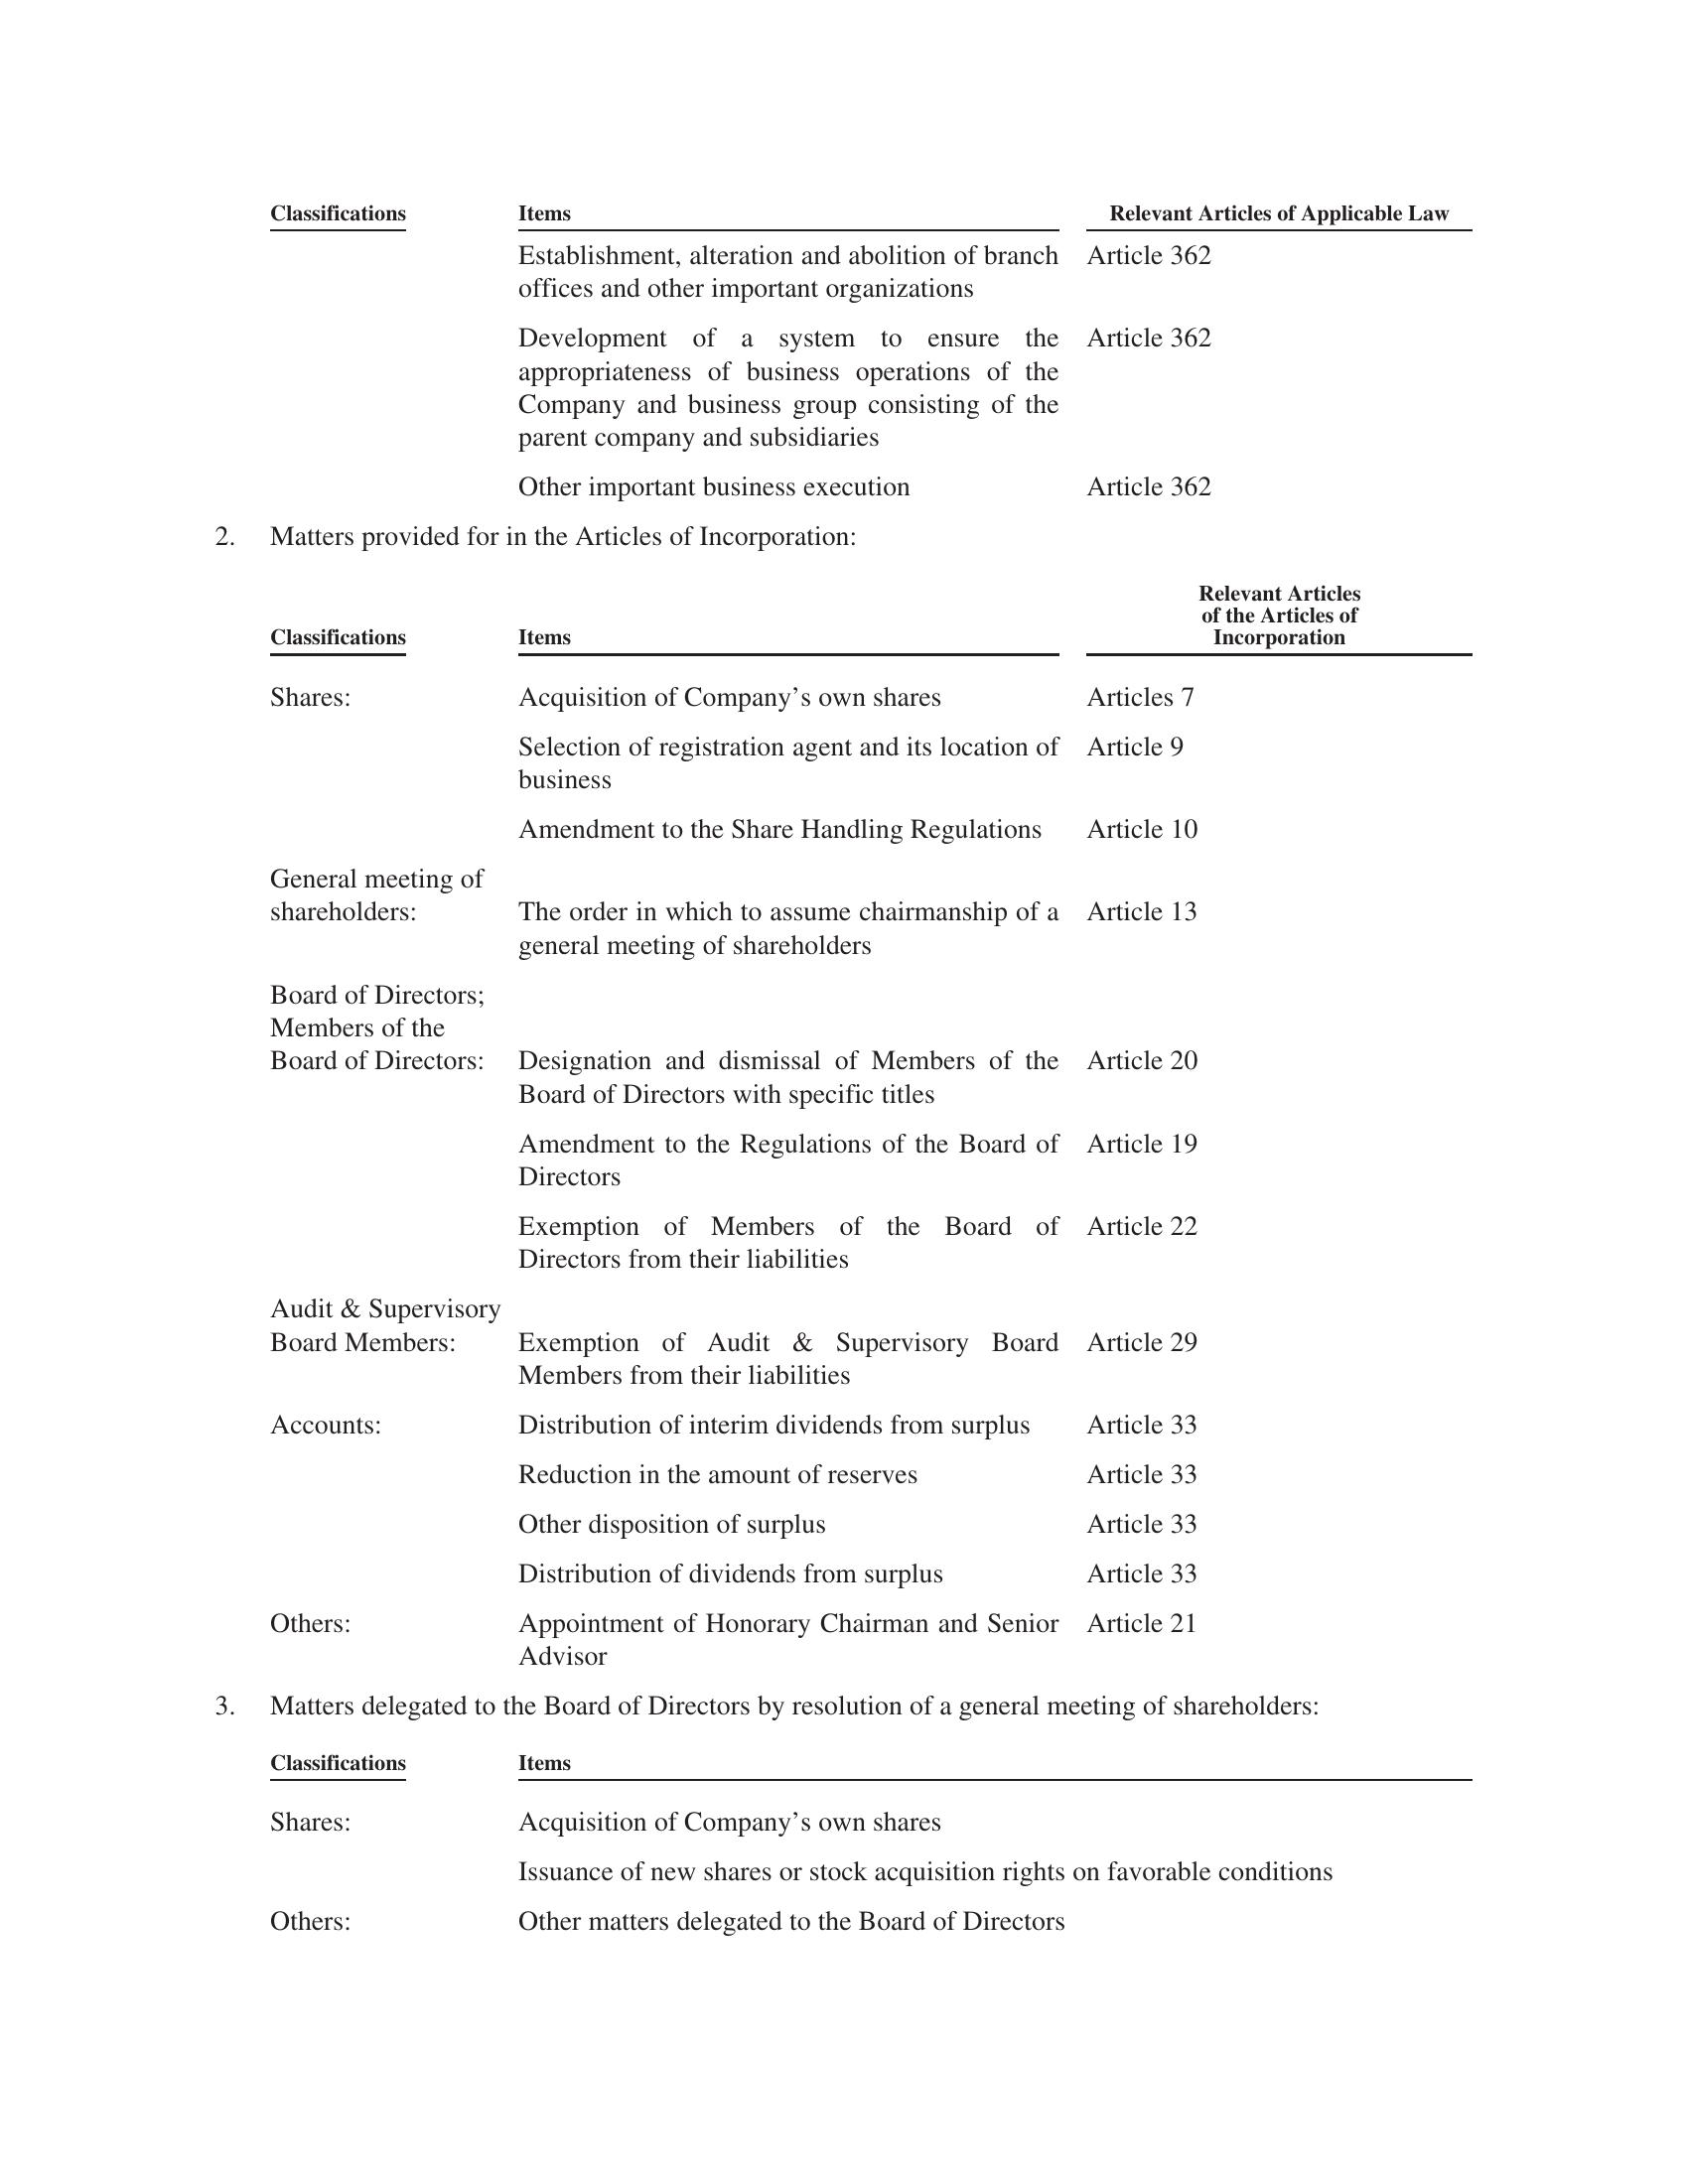Footer: (0, 1993, 1688, 2184)
Header: (0, 0, 1688, 158)
Table: (179, 170, 1518, 1950)
